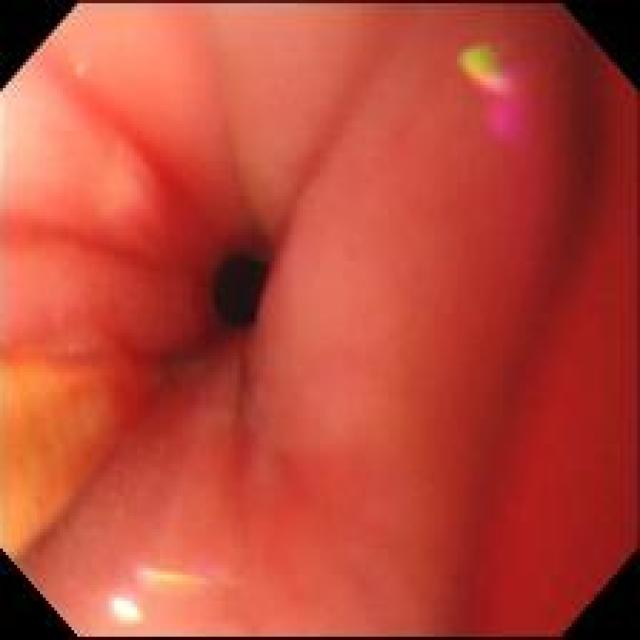blur: (454, 2, 637, 633)
color misalignment: (458, 38, 539, 143), (138, 557, 234, 600), (74, 54, 95, 80)
contrast: (206, 229, 276, 339)
instrument: (2, 364, 134, 561)
specularity: (111, 592, 143, 621), (110, 592, 142, 620)
